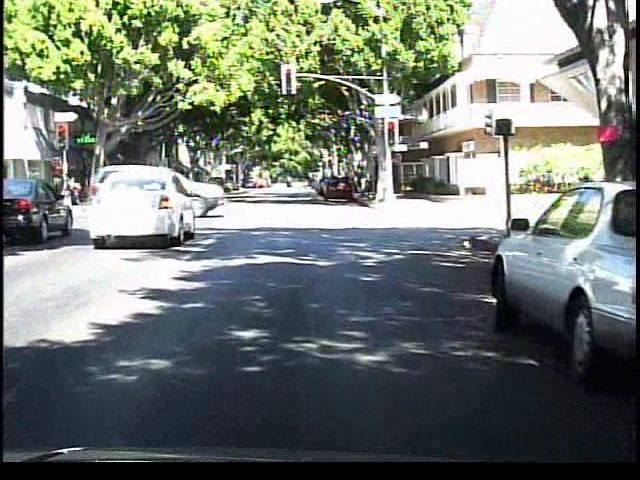person: (63, 164, 88, 210)
